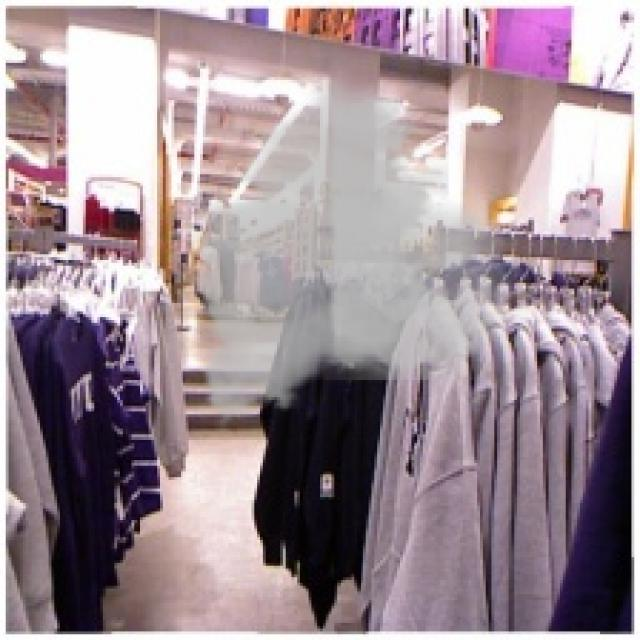smoke: (180, 66, 529, 437)
